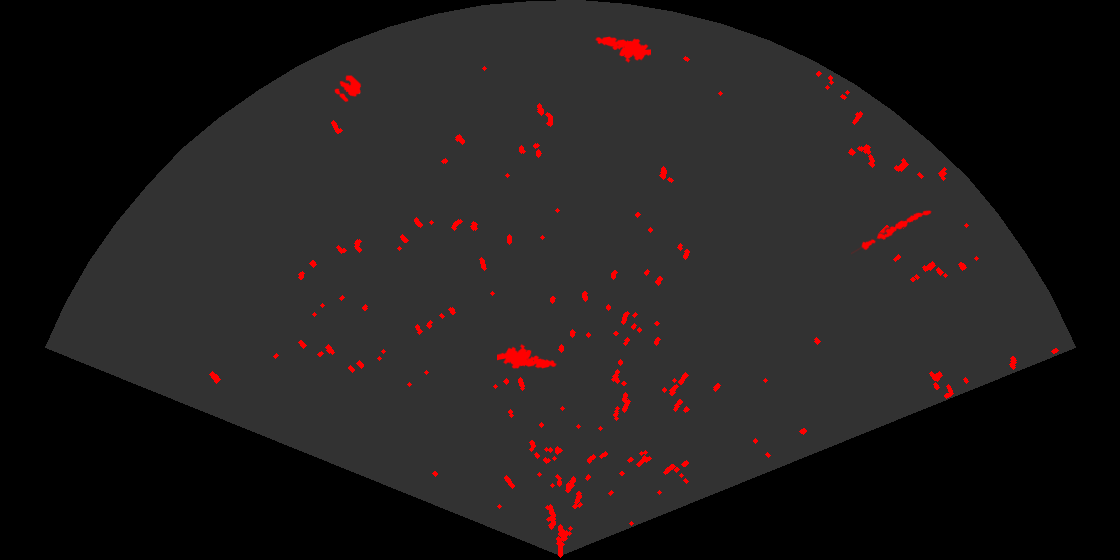ball: (333, 73, 363, 104)
chain: (851, 209, 933, 256)
frogman: (593, 35, 651, 65), (497, 342, 557, 370)
